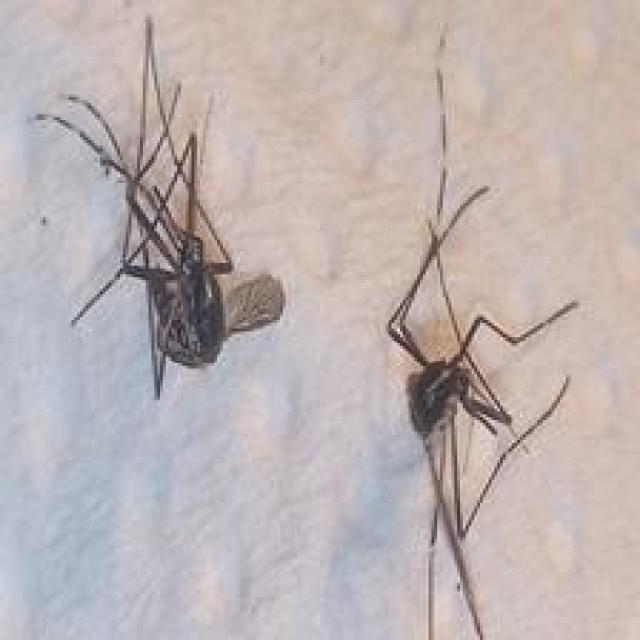Aedes albopictus: (30, 14, 287, 400)
